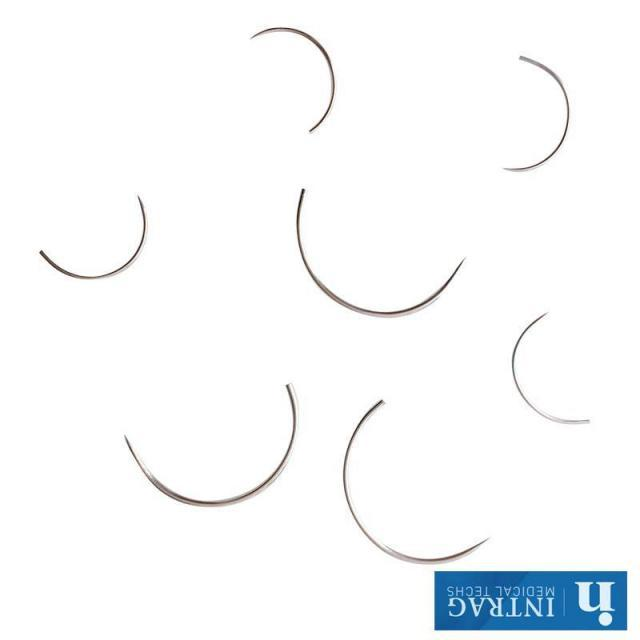Needle: (339, 398, 490, 568), (292, 183, 470, 322), (122, 380, 304, 509), (508, 310, 597, 430), (245, 26, 338, 138), (38, 190, 149, 282), (500, 54, 576, 175)
